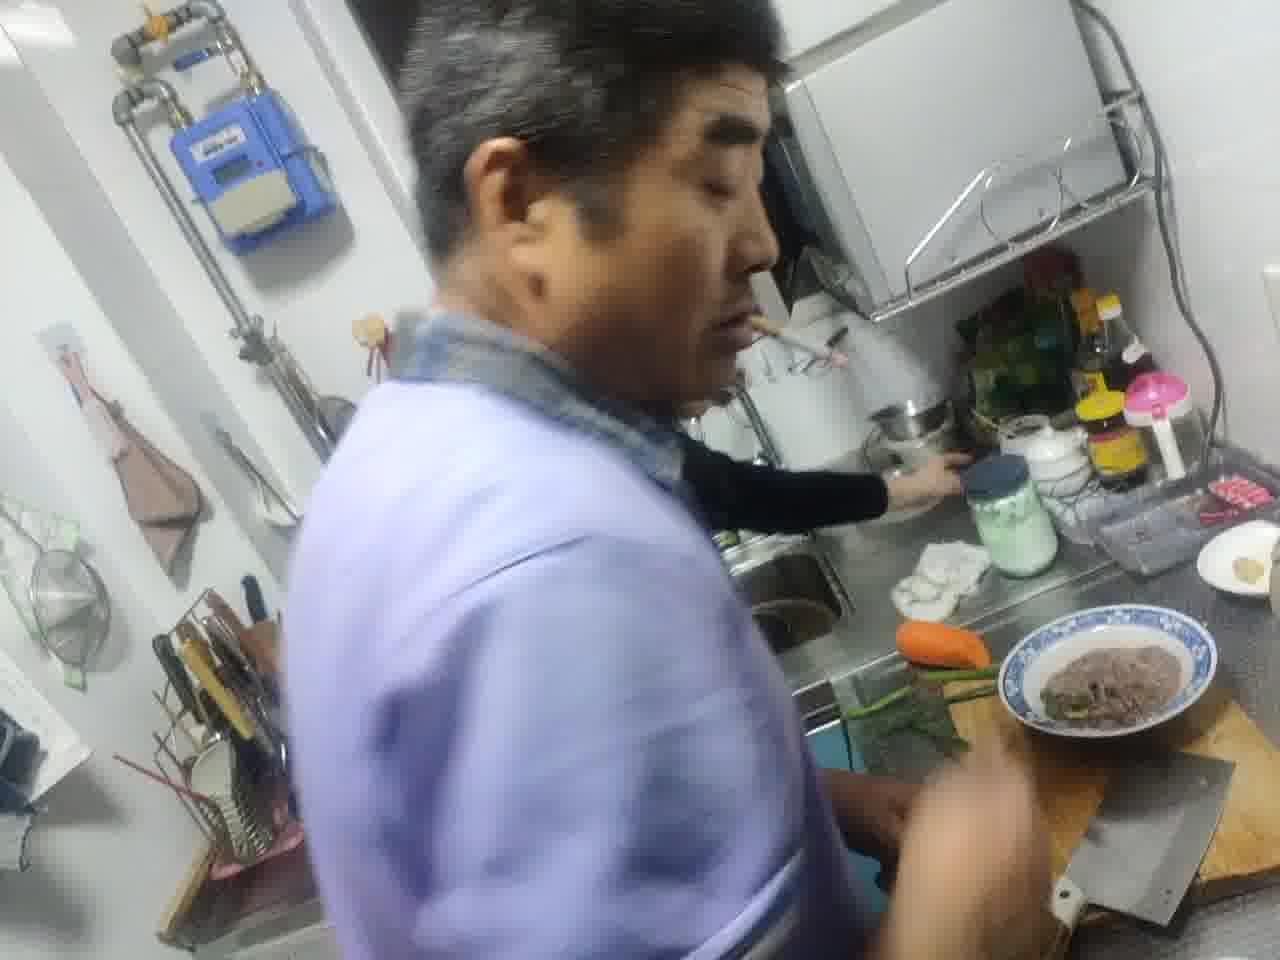smoke: (742, 313, 848, 367)
